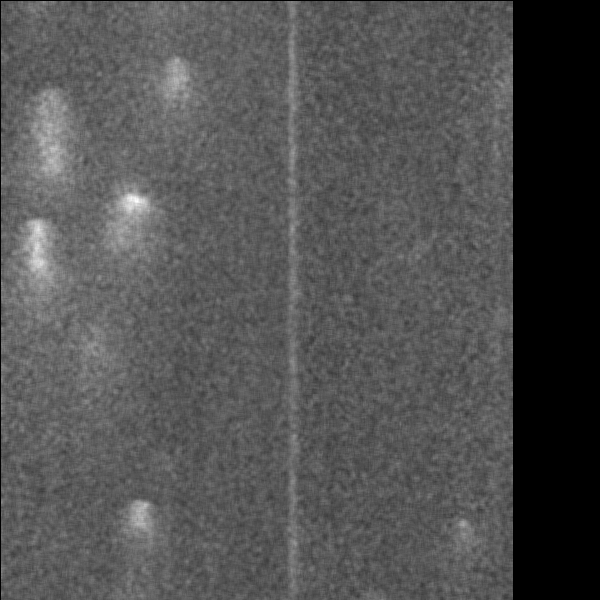spark: (147, 49, 205, 135), (100, 182, 168, 255), (25, 99, 76, 196), (16, 215, 58, 330), (120, 493, 155, 597), (449, 513, 470, 550)
